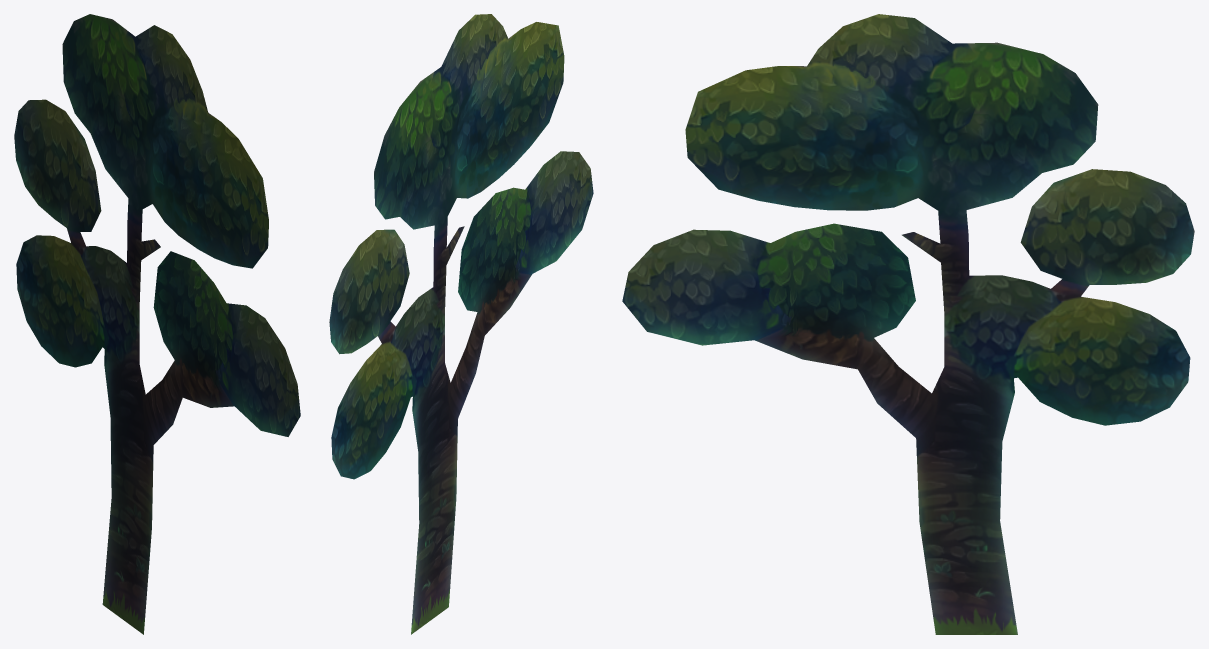
Rendered from scenes_demo_tree02.FBX.
The picture shows the model from 3 angles, left to right: view 1: azimuth 30°, elevation 25°; view 2: azimuth 150°, elevation 25°; view 3: azimuth 270°, elevation 25°; orthographic projection. The views are drawn at different scales.
Visible parts, largest first — view 1: scenes_demo_tree02; view 2: scenes_demo_tree02; view 3: scenes_demo_tree02.
Part boxes in pixels (x1=…): scenes_demo_tree02: x1=14, y1=14, x2=300, y2=634; scenes_demo_tree02: x1=329, y1=14, x2=593, y2=634; scenes_demo_tree02: x1=622, y1=14, x2=1194, y2=634.
Bounding box in the file's own units: 0.000184 × 1158 × 967.
